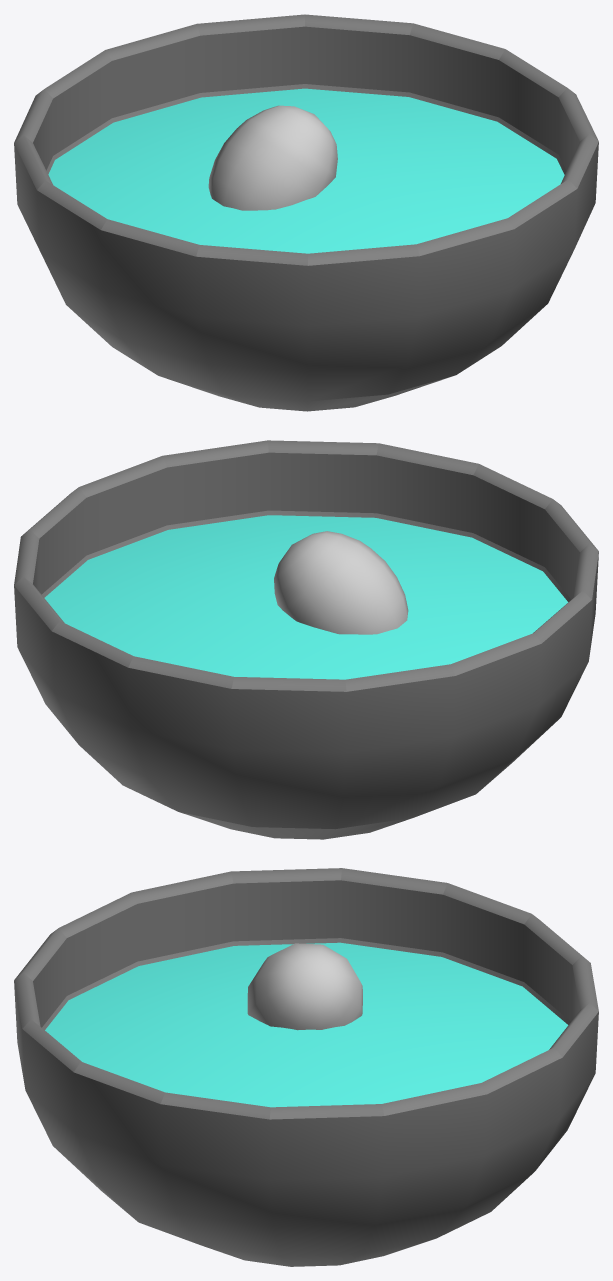
Rendered from Bowl with egg.fbx.
3 renders of one model, top to bottom at view 1: azimuth 30°, elevation 25°; view 2: azimuth 150°, elevation 25°; view 3: azimuth 270°, elevation 25°, orthographic.
Visible parts, largest first — view 1: polySurface1, polySurface2, Egg; view 2: polySurface1, polySurface2, Egg; view 3: polySurface1, polySurface2, Egg.
Boxes of the visible parts, x1,y1,x2,y2 form: polySurface1: [14, 14, 598, 411]; polySurface2: [48, 88, 564, 253]; Egg: [208, 105, 337, 210]; polySurface1: [14, 440, 598, 839]; polySurface2: [44, 515, 568, 679]; Egg: [274, 531, 408, 634]; polySurface1: [14, 868, 598, 1266]; polySurface2: [45, 942, 568, 1107]; Egg: [247, 943, 362, 1030].
Size of the model in its own units: 36.87 by 17.78 by 36.87.
